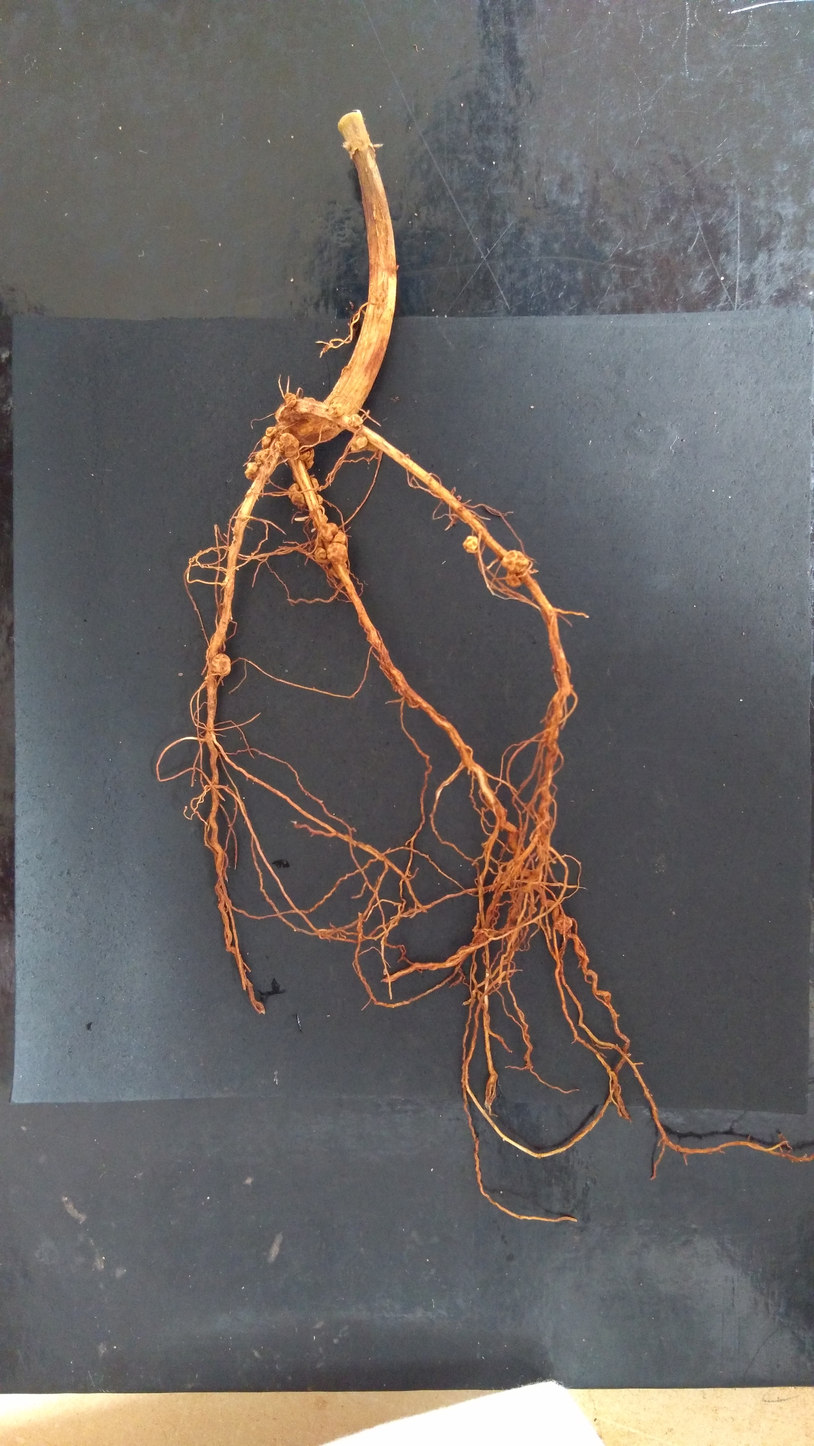nodule: (501, 549, 531, 575), (274, 433, 300, 458), (287, 482, 307, 510), (211, 652, 231, 677), (552, 912, 574, 934), (326, 542, 348, 564), (317, 522, 340, 543), (329, 560, 350, 579), (504, 569, 523, 589), (255, 448, 274, 468), (349, 434, 368, 453), (462, 535, 481, 554), (314, 546, 332, 565), (244, 462, 263, 480), (300, 446, 314, 470), (330, 529, 348, 546), (328, 402, 345, 418), (312, 513, 329, 529), (347, 413, 364, 428), (273, 425, 288, 438), (284, 392, 297, 407), (517, 867, 534, 878), (314, 534, 326, 549), (309, 477, 320, 493), (265, 426, 277, 438), (261, 435, 272, 448), (298, 451, 311, 461), (527, 904, 538, 915), (315, 494, 324, 505), (455, 494, 462, 502), (405, 453, 410, 460)
